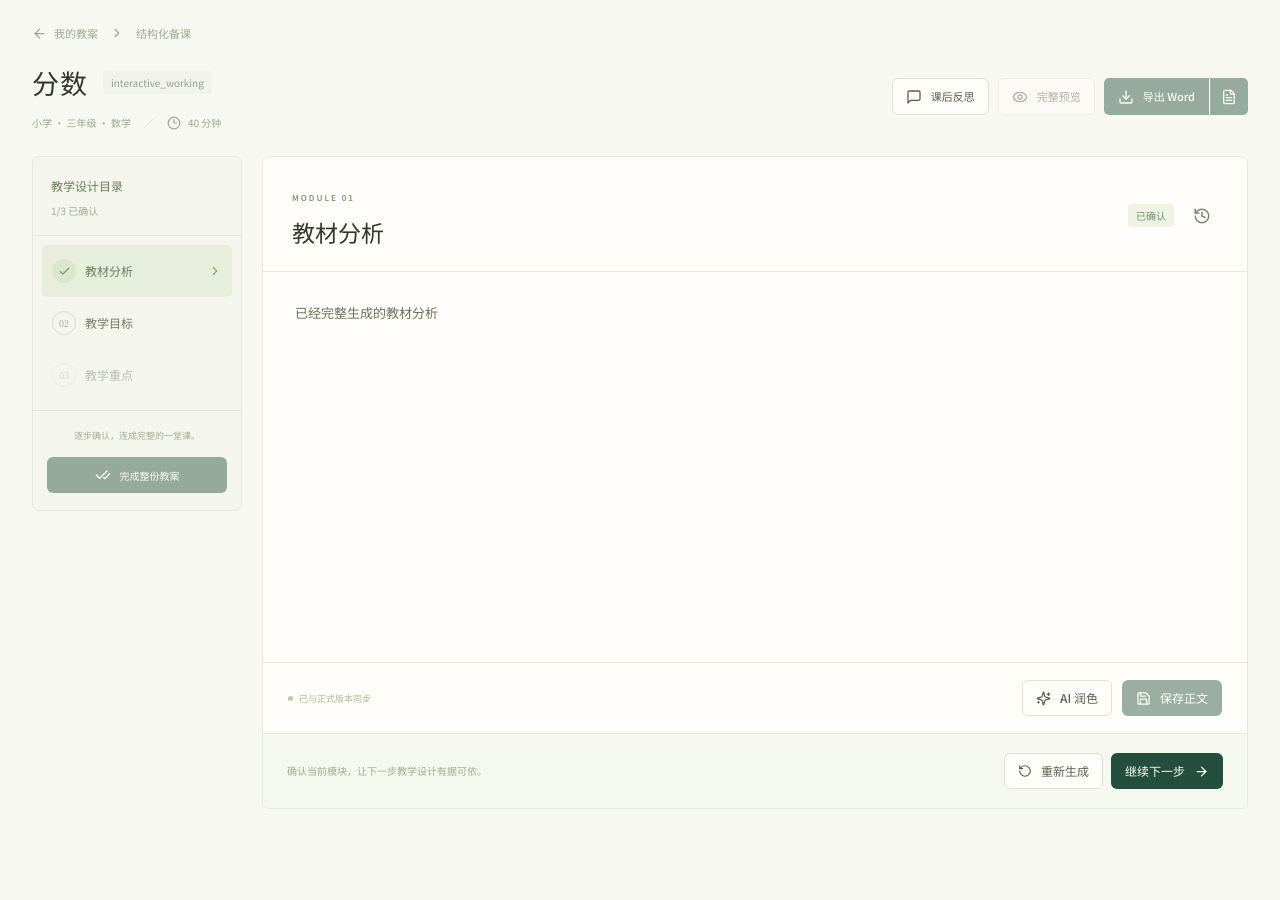
Test: automatically generates an empty unlocked module entered through the directory
Click the button "02 教学目标" at [137, 323], box [42,297,232,349]
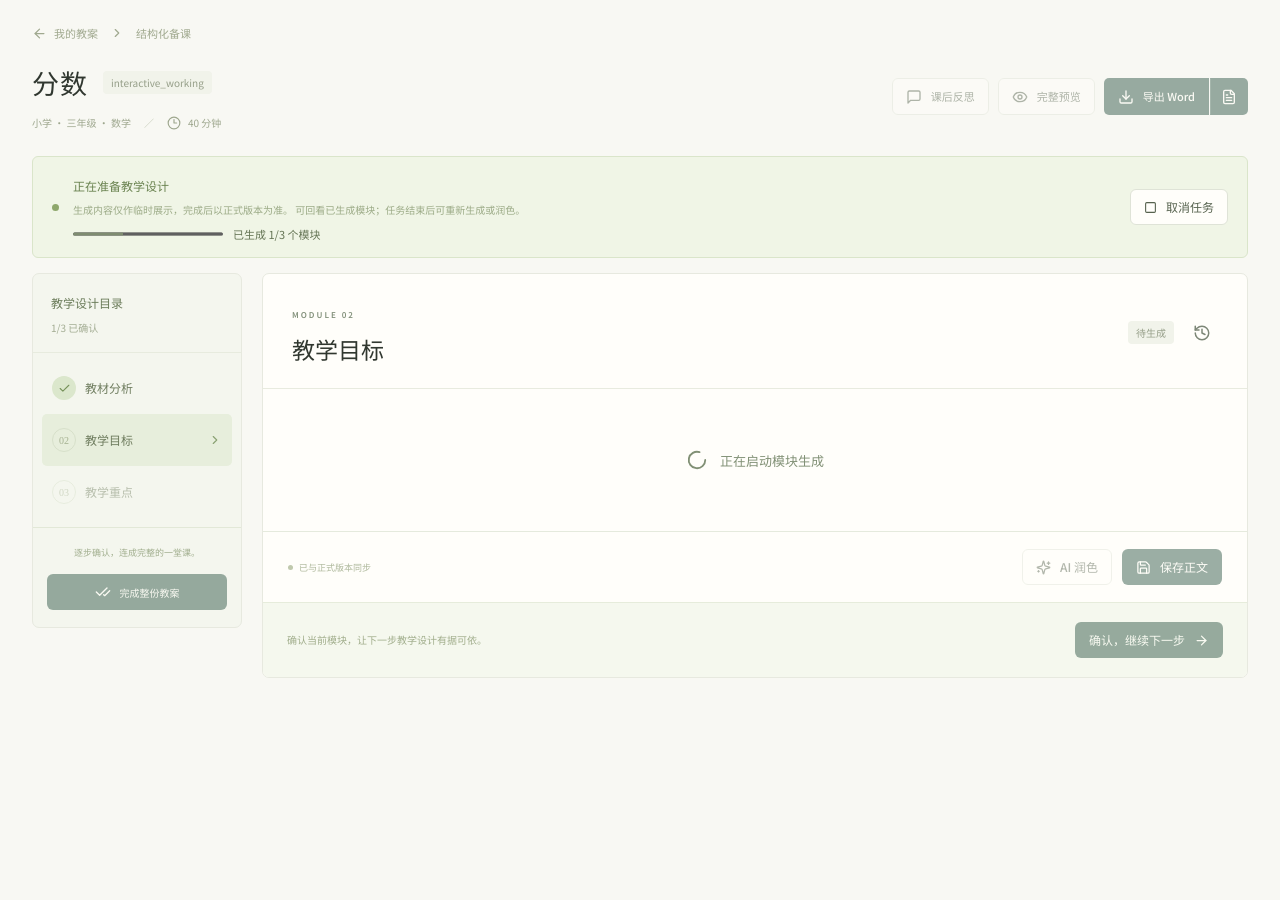
Click the button "教材分析" at [137, 388], box [42,362,232,414]
(page scrolled)
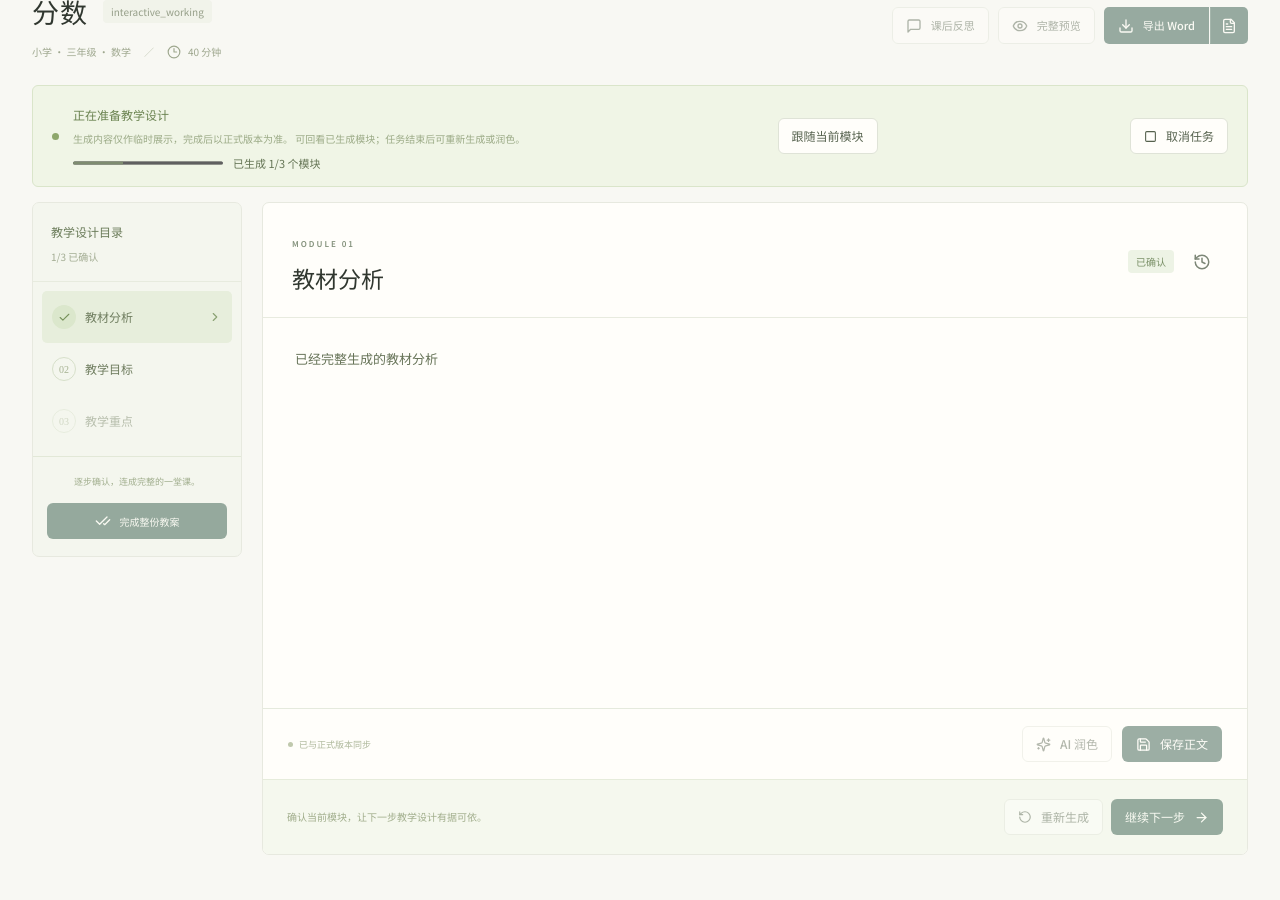
Now the button "重新生成" is disabled, box [1004,799,1103,835]
